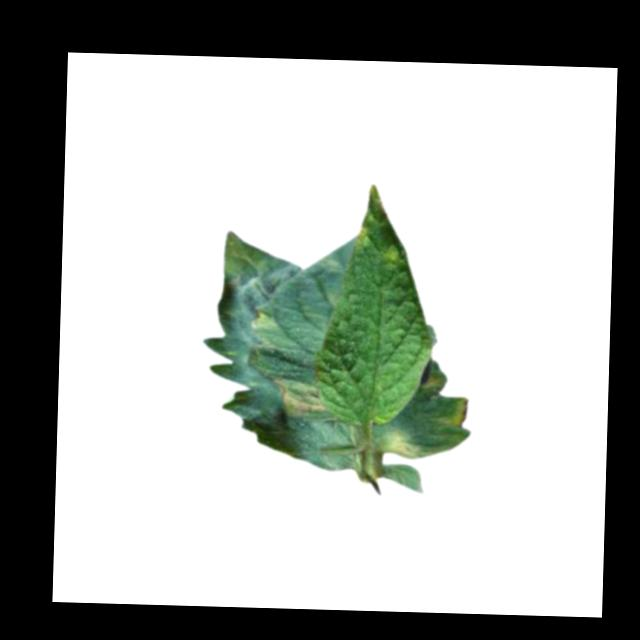Leaf_Mold: (273, 376, 329, 418), (378, 430, 419, 461), (440, 398, 469, 430), (252, 306, 276, 332), (352, 220, 376, 246), (382, 239, 403, 263)
